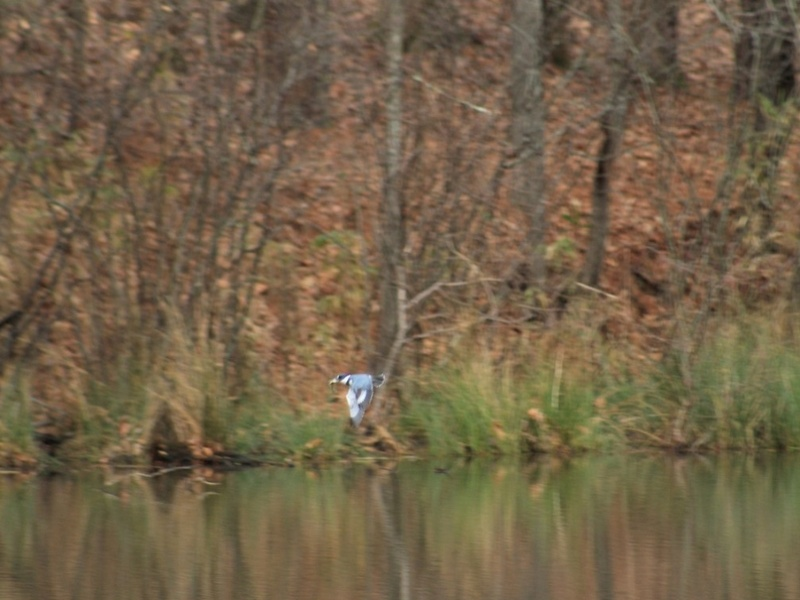kingfisher: (327, 371, 390, 426)
